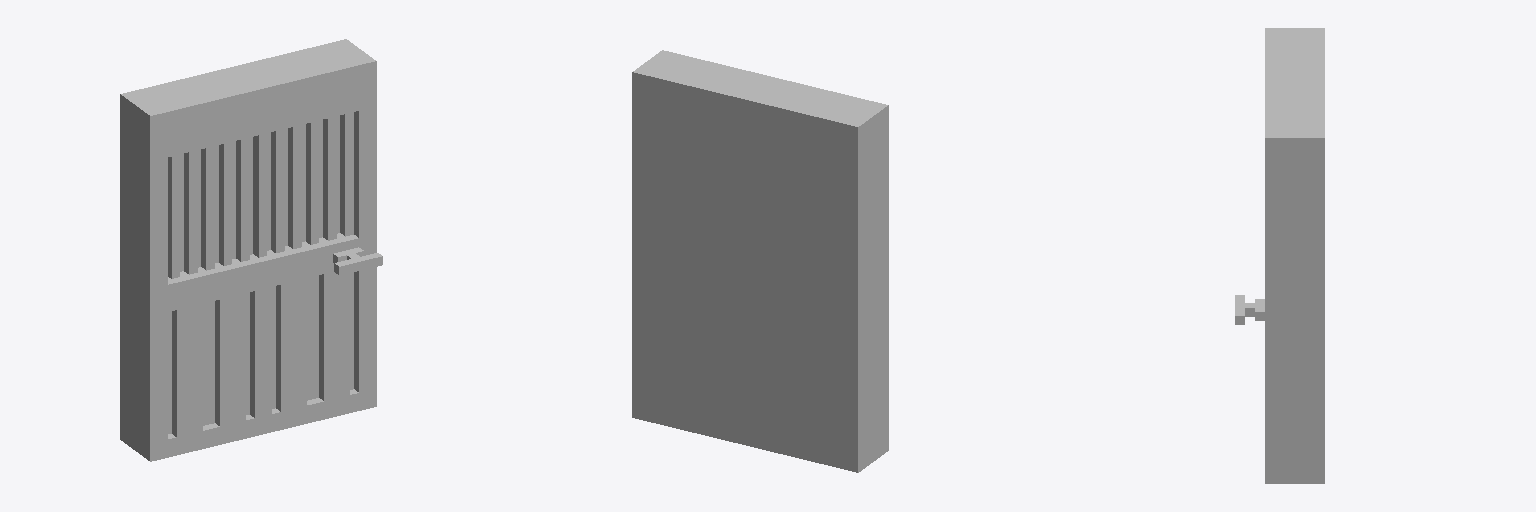
Rendered from door1.obj.
3 renders of one model, left to right at view 1: azimuth 30°, elevation 25°; view 2: azimuth 150°, elevation 25°; view 3: azimuth 270°, elevation 25°, orthographic.
Visible parts, largest first — view 1: door1; view 2: door1; view 3: door1.
Part boxes in pixels (left/top/right/bottom): door1: left=120, top=39, right=382, bottom=461; door1: left=632, top=50, right=888, bottom=472; door1: left=1235, top=28, right=1324, bottom=483.
Bounding box in the file's own units: 26 × 38 × 9.